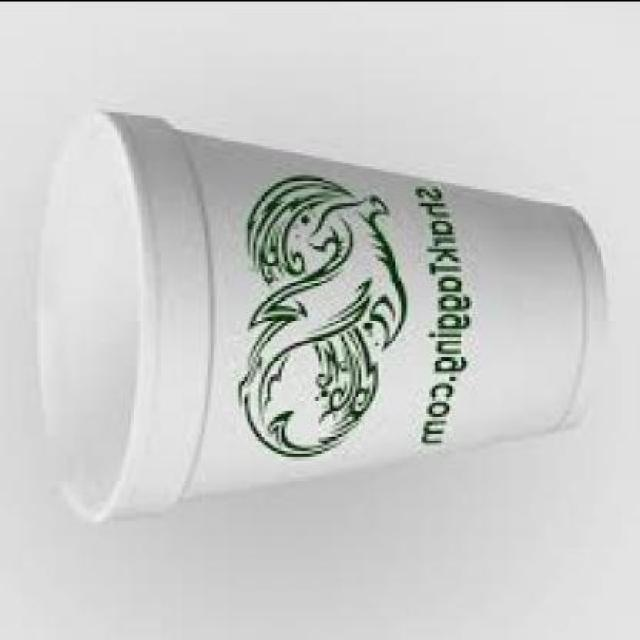PAPER: (28, 106, 606, 514)
